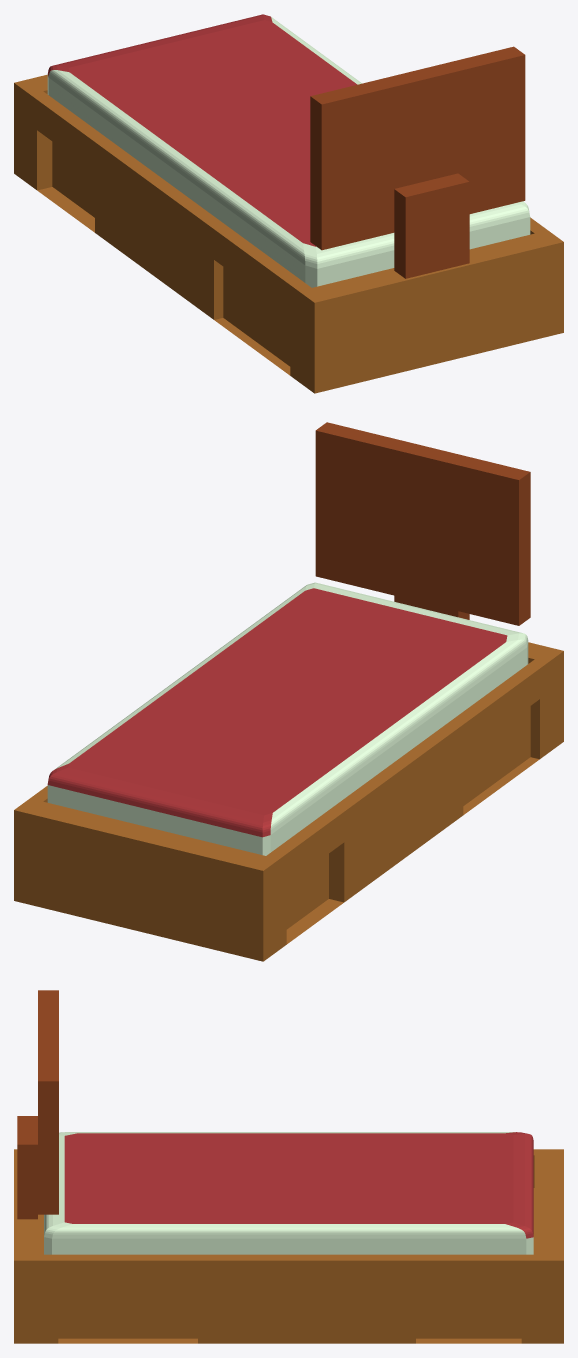
The model's file is bed.fbx.
The picture shows the model from 3 angles, top to bottom: view 1: azimuth 30°, elevation 25°; view 2: azimuth 150°, elevation 25°; view 3: azimuth 270°, elevation 25°; orthographic projection. The views are drawn at different scales.
Parts seen in each view (by area): view 1: Cube; view 2: Cube; view 3: Cube.
Part boxes in pixels (bbox=[...]): Cube: bbox=[14, 14, 563, 393]; Cube: bbox=[14, 422, 563, 961]; Cube: bbox=[14, 990, 563, 1343].
Bounding box in the file's own units: 428 × 450 × 893.
